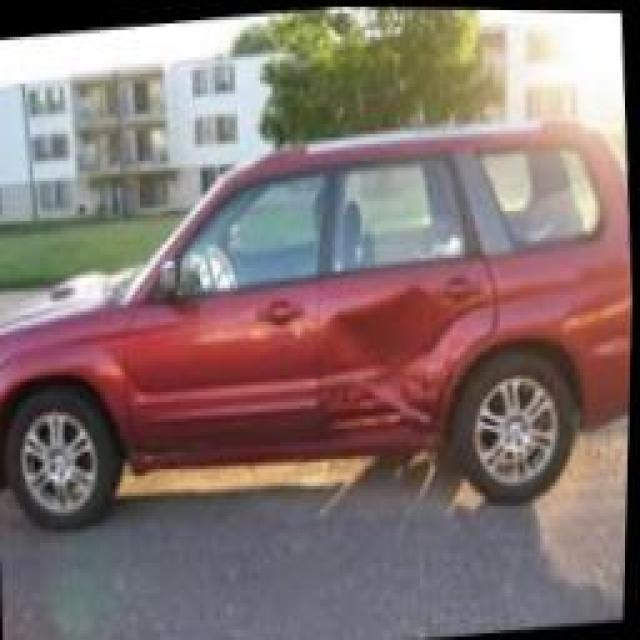replaceable: (323, 274, 467, 442)
